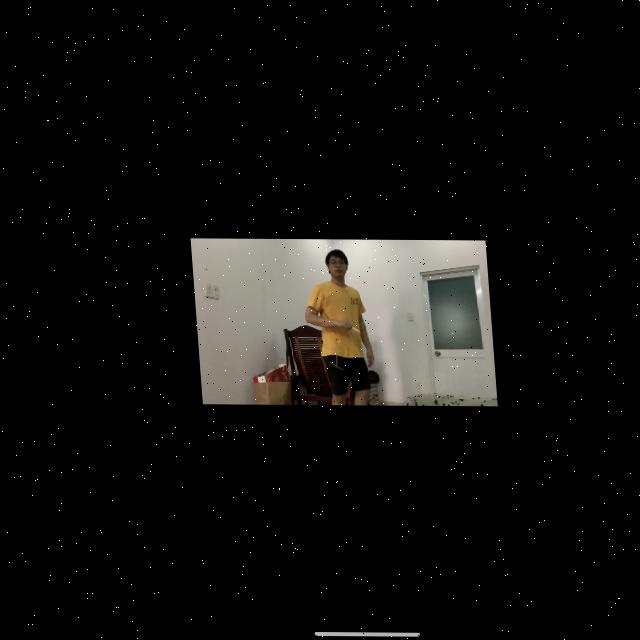cigarette: (346, 326, 354, 332)
